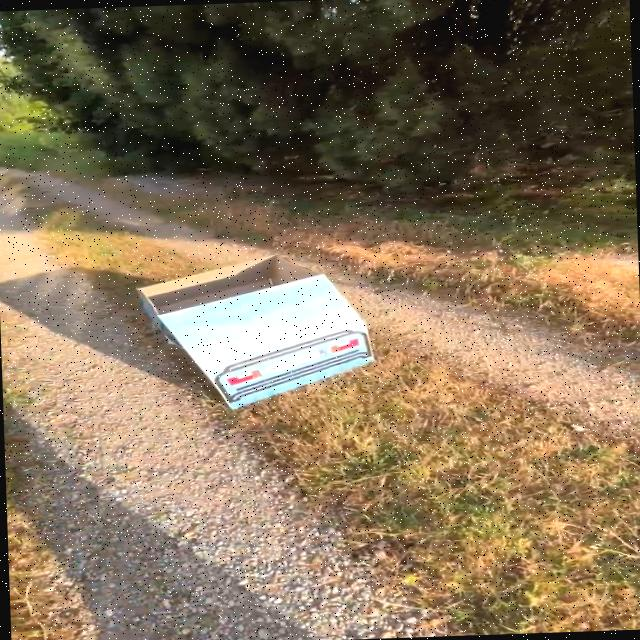blue_car: (97, 235, 412, 439)
